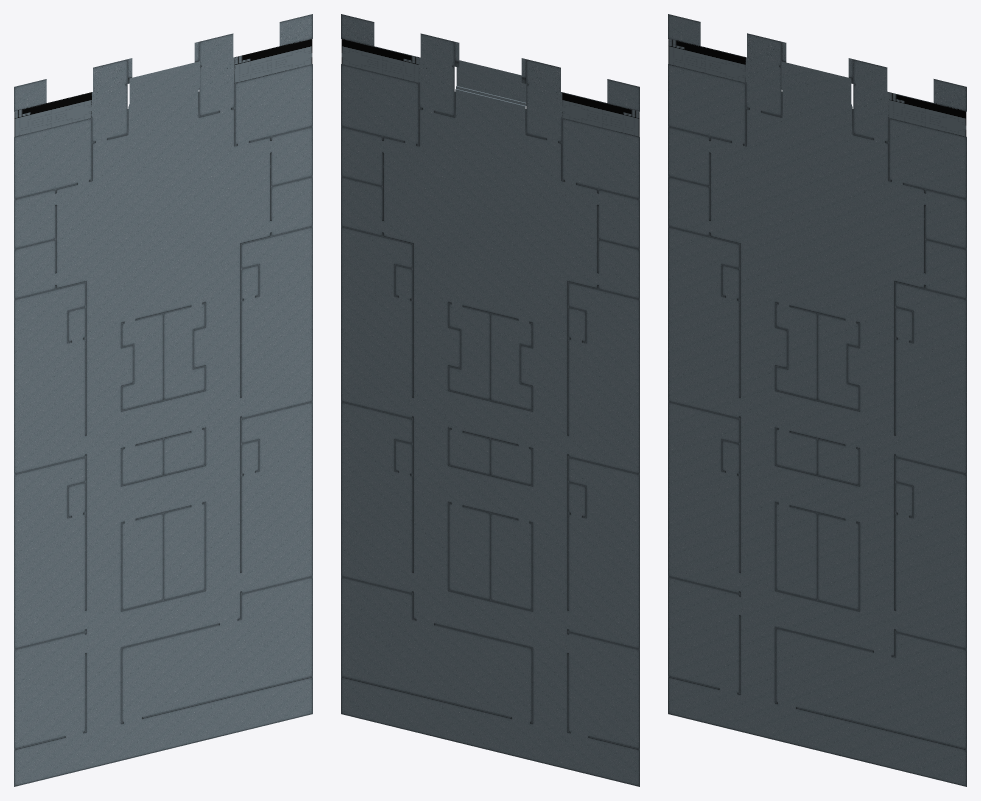
3 views of the same model, side by side, from view 1: azimuth 30°, elevation 25°; view 2: azimuth 150°, elevation 25°; view 3: azimuth 330°, elevation 25° (orthographic).
Visible parts, largest first — view 1: node_0; view 2: node_0; view 3: node_0.
Boxes of the visible parts, x1,y1,x2,y2 form: node_0: [14, 14, 312, 786]; node_0: [341, 14, 639, 786]; node_0: [668, 14, 966, 786].
Size of the model in its own units: 25 by 56 by 0.1755.
1 material, 1 textured.
